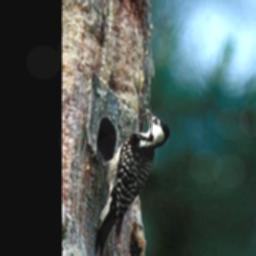Woodpecker: (96, 105, 171, 256)
